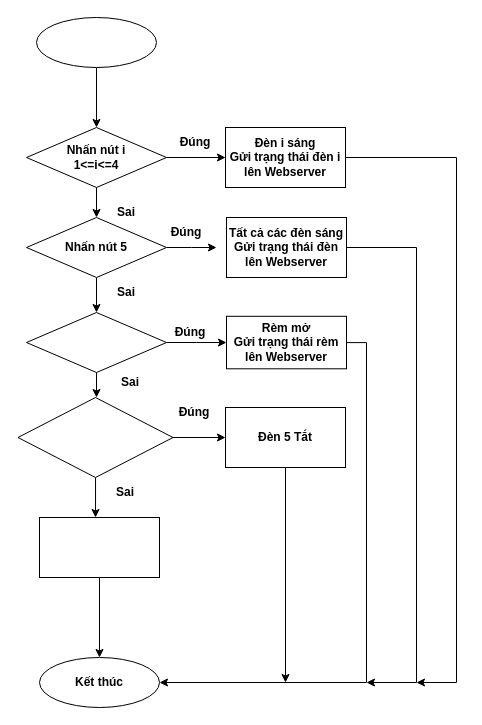
The diagram is 482 pixels wide and 725 high, and some of its shapes have lost their labels. The centre of each missing label's shape, as x and y in pixels:
"Bắt đầu" goes at point 96,42.
"Giá trị cảm biến > giá trị ngưỡng đặt" goes at point 95,437.
"Nhấn nút mở rèm" goes at point 96,342.
"Đèn 5 sáng" goes at point 99,547.
